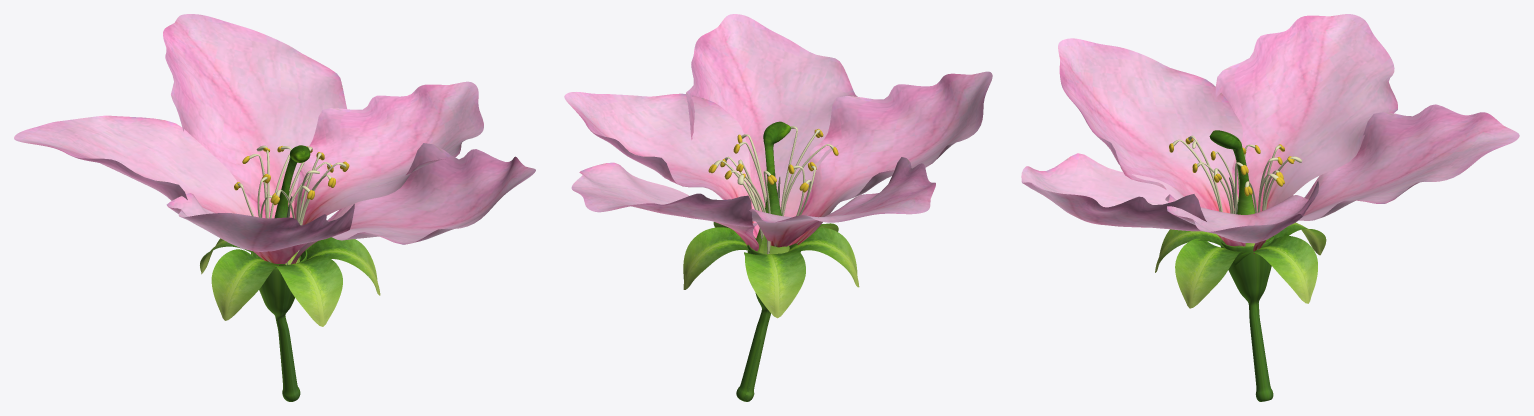
Rendered from taohua.fbx.
3 renders of one model, left to right at view 1: azimuth 30°, elevation 25°; view 2: azimuth 150°, elevation 25°; view 3: azimuth 270°, elevation 25°, orthographic. The views are drawn at different scales.
Parts seen in each view (by area): view 1: polySurface28, polySurface26, polySurface27, polySurface22, polySurface24, polySurface19, polySurface7, polySurface1, polySurface18, polySurface29, ads14; view 2: polySurface22, polySurface24, polySurface26, polySurface28, polySurface27, polySurface16, polySurface17, polySurface7, polySurface1, polySurface29, ads15, ads14 (+1 smaller); view 3: polySurface27, polySurface24, polySurface28, polySurface22, polySurface26, polySurface1, polySurface18, polySurface17, polySurface30, polySurface19, polySurface16, ads15.
Part boxes in pixels (left/top/right/bottom): polySurface28: left=163, top=14, right=346, bottom=218; polySurface26: left=294, top=81, right=483, bottom=225; polySurface27: left=14, top=115, right=258, bottom=217; polySurface22: left=291, top=143, right=535, bottom=264; polySurface24: left=166, top=193, right=354, bottom=265; polySurface19: left=273, top=255, right=342, bottom=326; polySurface7: left=211, top=249, right=285, bottom=320; polySurface1: left=251, top=250, right=307, bottom=401; polySurface18: left=300, top=237, right=380, bottom=295; polySurface29: left=274, top=145, right=303, bottom=265; ads14: left=249, top=145, right=289, bottom=218; polySurface22: left=686, top=14, right=857, bottom=238; polySurface24: left=789, top=71, right=992, bottom=245; polySurface26: left=564, top=92, right=753, bottom=230; polySurface28: left=571, top=162, right=758, bottom=251; polySurface27: left=749, top=157, right=935, bottom=247; polySurface16: left=744, top=250, right=805, bottom=318; polySurface17: left=683, top=227, right=750, bottom=289; polySurface7: left=788, top=227, right=859, bottom=287; polySurface1: left=736, top=237, right=800, bottom=401; polySurface29: left=759, top=122, right=790, bottom=254; ads15: left=781, top=126, right=833, bottom=216; ads14: left=730, top=170, right=770, bottom=254; polySurface27: left=1215, top=14, right=1397, bottom=211; polySurface24: left=1058, top=38, right=1242, bottom=213; polySurface28: left=1253, top=104, right=1519, bottom=253; polySurface22: left=1021, top=153, right=1245, bottom=246; polySurface26: left=1165, top=181, right=1318, bottom=243; polySurface1: left=1220, top=235, right=1274, bottom=401; polySurface18: left=1175, top=238, right=1247, bottom=308; polySurface17: left=1234, top=236, right=1317, bottom=303; polySurface30: left=1209, top=131, right=1254, bottom=246; polySurface19: left=1155, top=229, right=1225, bottom=272; polySurface16: left=1265, top=222, right=1326, bottom=255; ads15: left=1172, top=135, right=1222, bottom=211.
Bounding box in the file's own units: 17.52 × 11.99 × 18.65.
8 materials, 2 textured.
